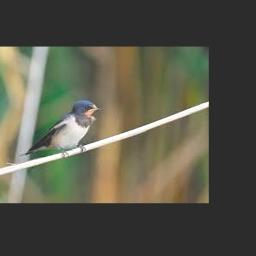Swallow: (20, 100, 103, 157)
